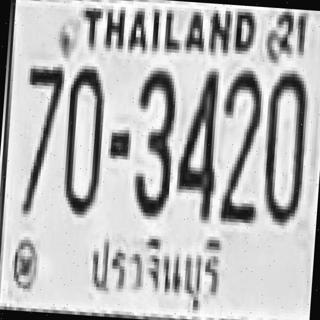N00: (260, 70, 309, 222), (60, 64, 104, 212), (62, 64, 104, 174)
N02: (217, 69, 263, 204)
N03: (130, 68, 178, 216)
N04: (172, 68, 222, 218)
N07: (19, 63, 62, 201), (22, 64, 62, 162), (22, 63, 62, 153)
P49: (80, 226, 228, 313)
